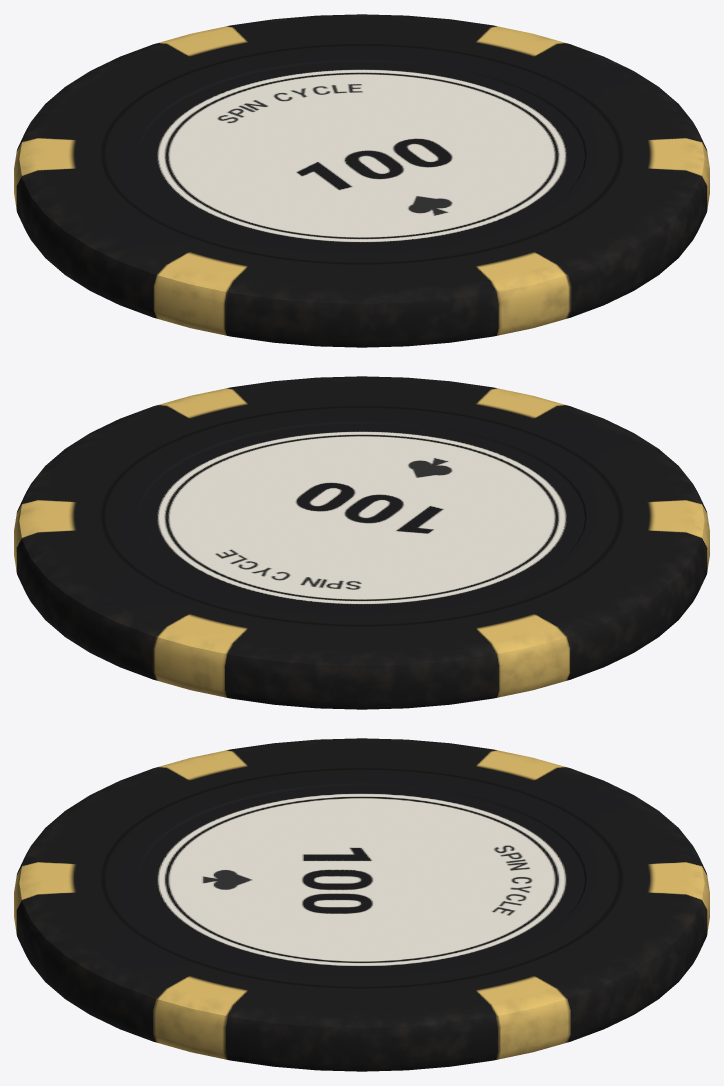
The model's file is SM_Chip_100.glb.
3 renders of one model, top to bottom at view 1: azimuth 30°, elevation 25°; view 2: azimuth 150°, elevation 25°; view 3: azimuth 270°, elevation 25°, orthographic.
Visible parts, largest first — view 1: SM_Chip_100; view 2: SM_Chip_100; view 3: SM_Chip_100.
Part boxes in pixels (box(x1,y1,x2,y2)): SM_Chip_100: box(14, 14, 709, 347); SM_Chip_100: box(14, 376, 709, 709); SM_Chip_100: box(14, 738, 709, 1071).
Size of the model in its own units: 0.039 by 0.0033 by 0.039.
Materials: 1 (1 with a texture image).
